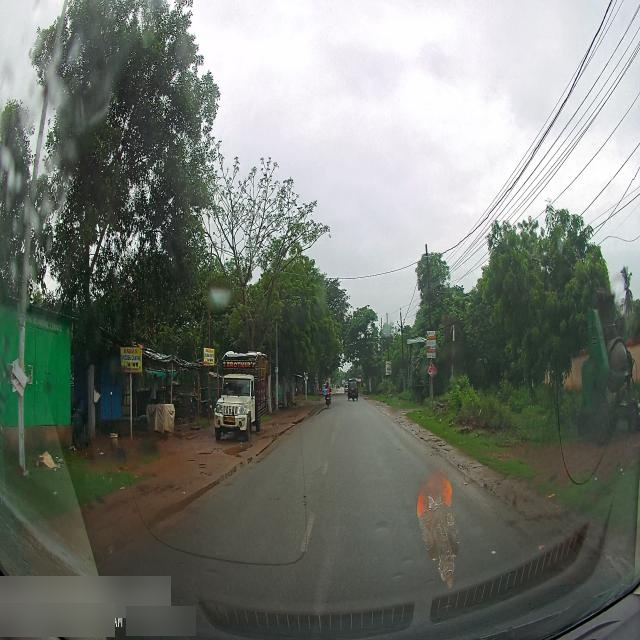pothole: (367, 496, 397, 544), (385, 555, 416, 592), (297, 483, 319, 514)
